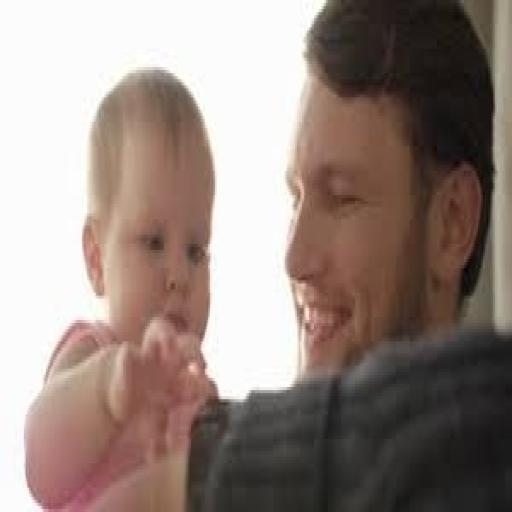hugging: (22, 3, 509, 509), (22, 61, 224, 509)
